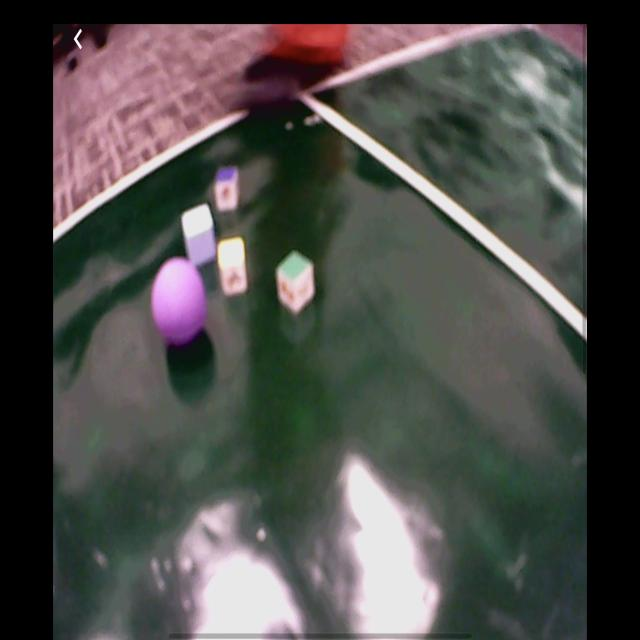ball: (151, 256, 206, 346)
